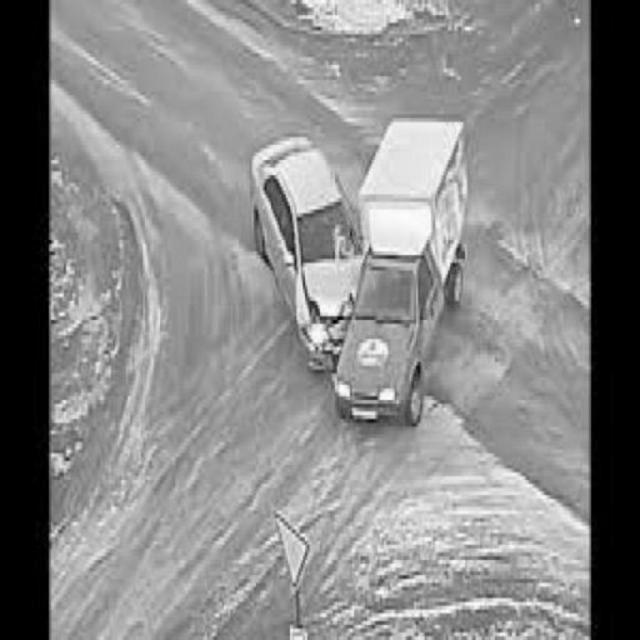accident: (251, 118, 463, 430)
